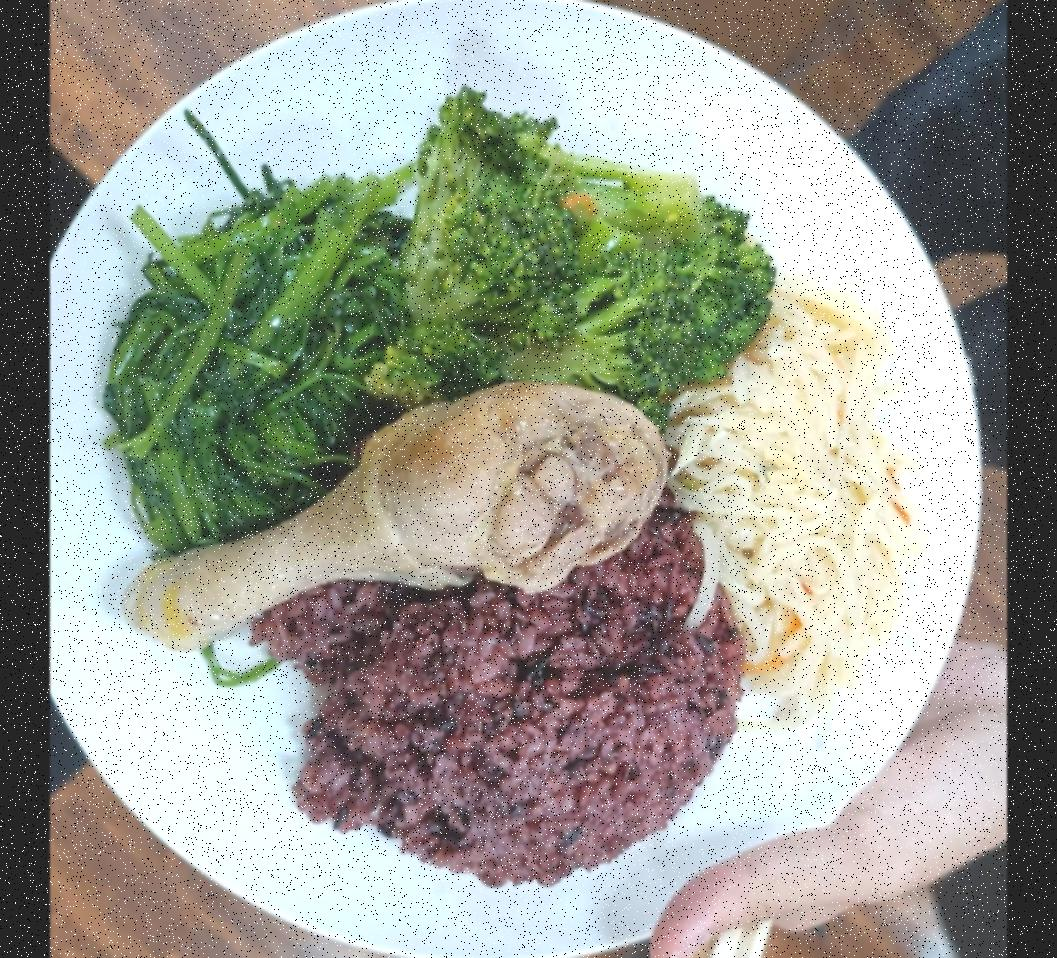big fried chicken leg: (49, 0, 987, 958)
braised fish: (273, 508, 731, 876)
braised fish fillet: (364, 87, 782, 414), (97, 170, 417, 560), (685, 297, 937, 710)
braised pork: (120, 371, 671, 678)
